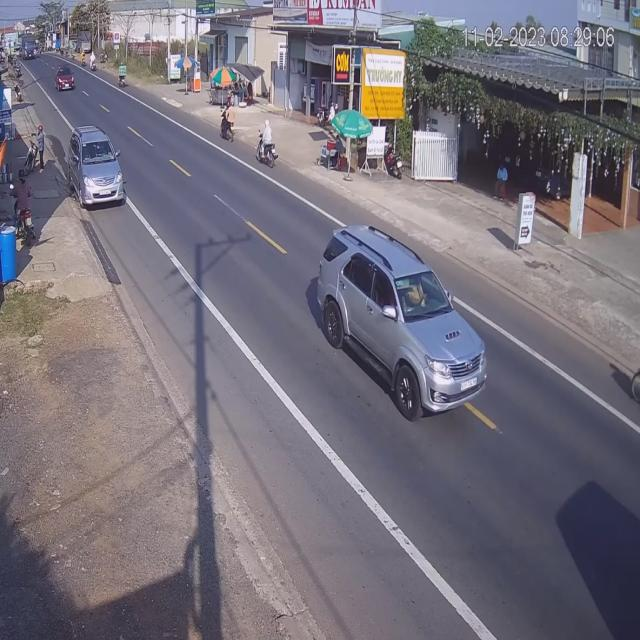car: (321, 222, 492, 418), (68, 124, 126, 208), (56, 62, 76, 91)
motorbike: (257, 120, 279, 169), (630, 333, 640, 439), (220, 106, 234, 141)
